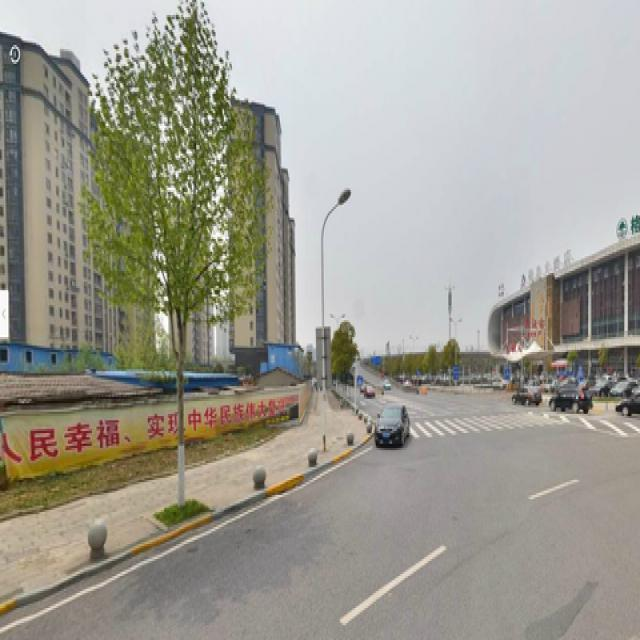meta: (87, 13, 277, 527)
